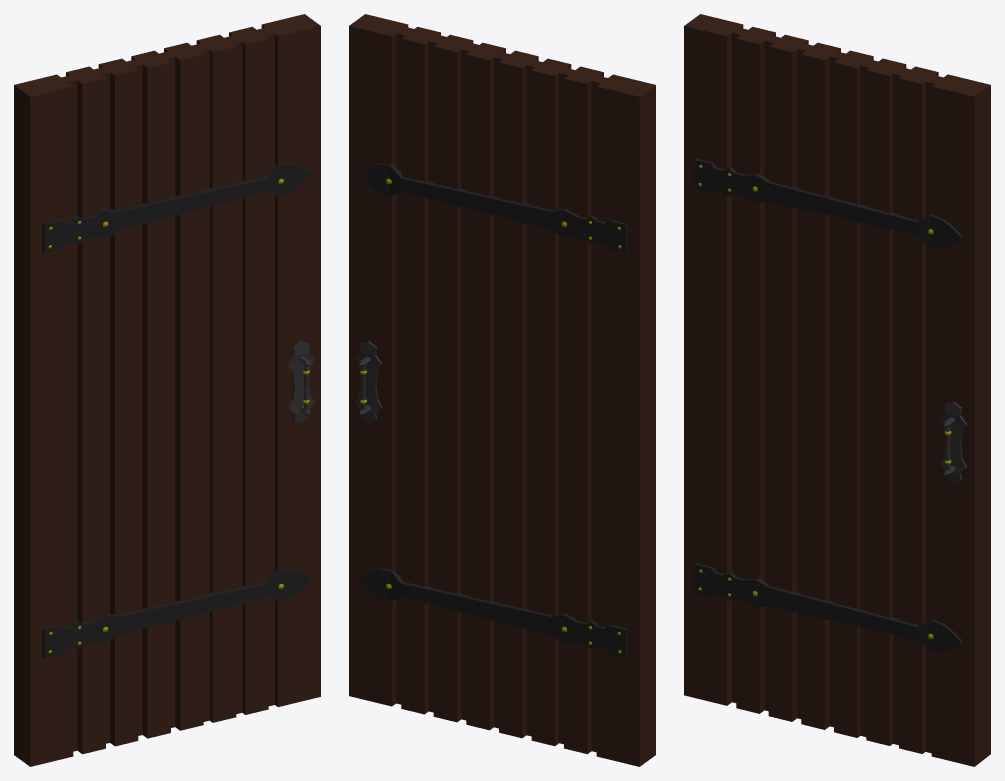
File: DoorEscenario3.fbx
The picture shows the model from 3 angles, left to right: view 1: azimuth 30°, elevation 25°; view 2: azimuth 150°, elevation 25°; view 3: azimuth 330°, elevation 25°; orthographic projection.
Visible parts, largest first — view 1: SecondDoor; view 2: SecondDoor; view 3: SecondDoor.
Boxes of the visible parts, <box> form: SecondDoor: <box>14,14,320,766</box>; SecondDoor: <box>349,14,655,766</box>; SecondDoor: <box>684,14,990,766</box>.
Bounding box in the file's own units: 92.6 × 204 × 19.96.
